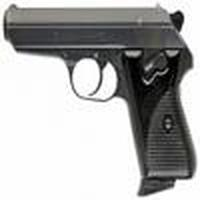gun: (2, 4, 200, 186)
